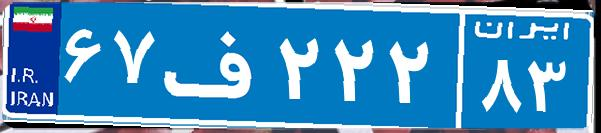2: (385, 28, 445, 110), (273, 28, 330, 110), (330, 28, 385, 110)
3: (525, 38, 570, 115)
6: (57, 26, 110, 107)
7: (110, 28, 158, 105)
8: (475, 38, 525, 113)
ف: (158, 15, 273, 115)
